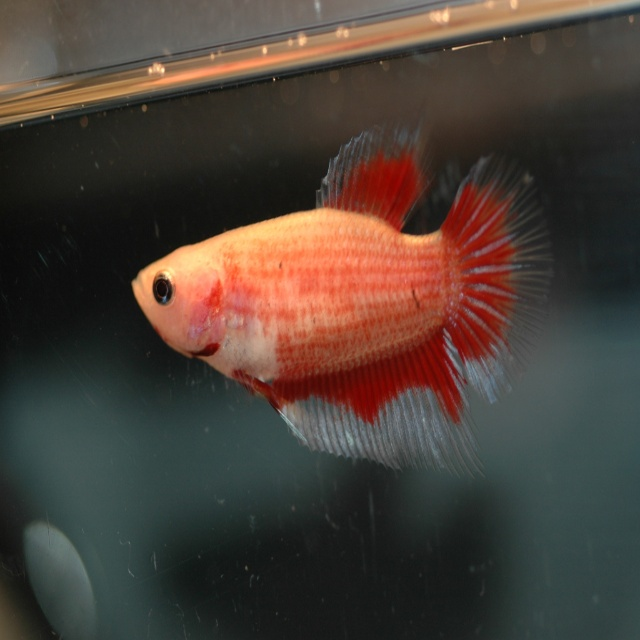Fish: (123, 94, 554, 458)
